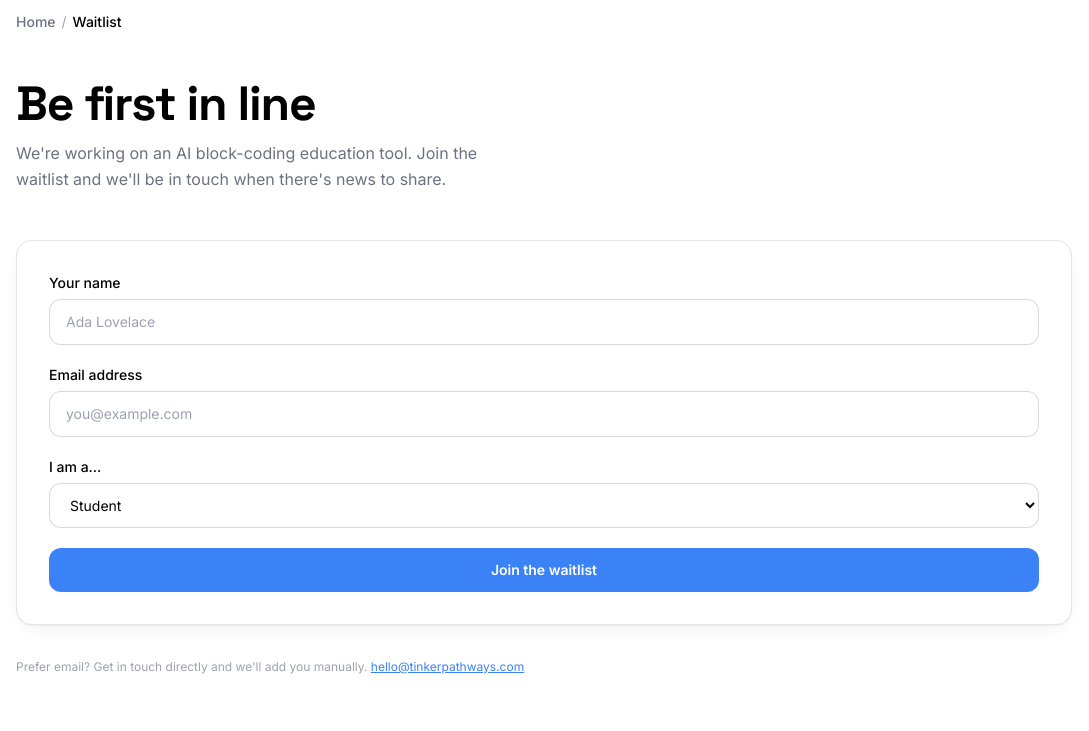
Waitlist page › shows a validation error for an invalid email
Type "Ada" into the field labelled "Your name" at (544, 322), box [49,299,1039,345]
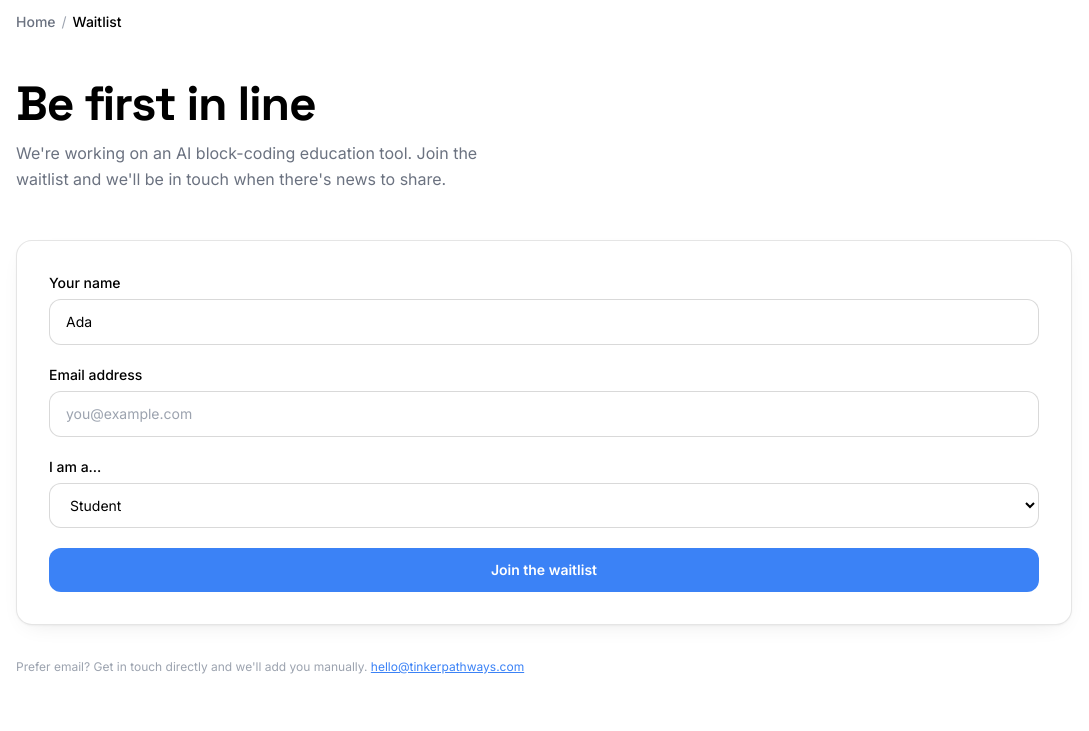
Type "not-an-email" into the field labelled "Email address" at (544, 414), box [49,391,1039,437]
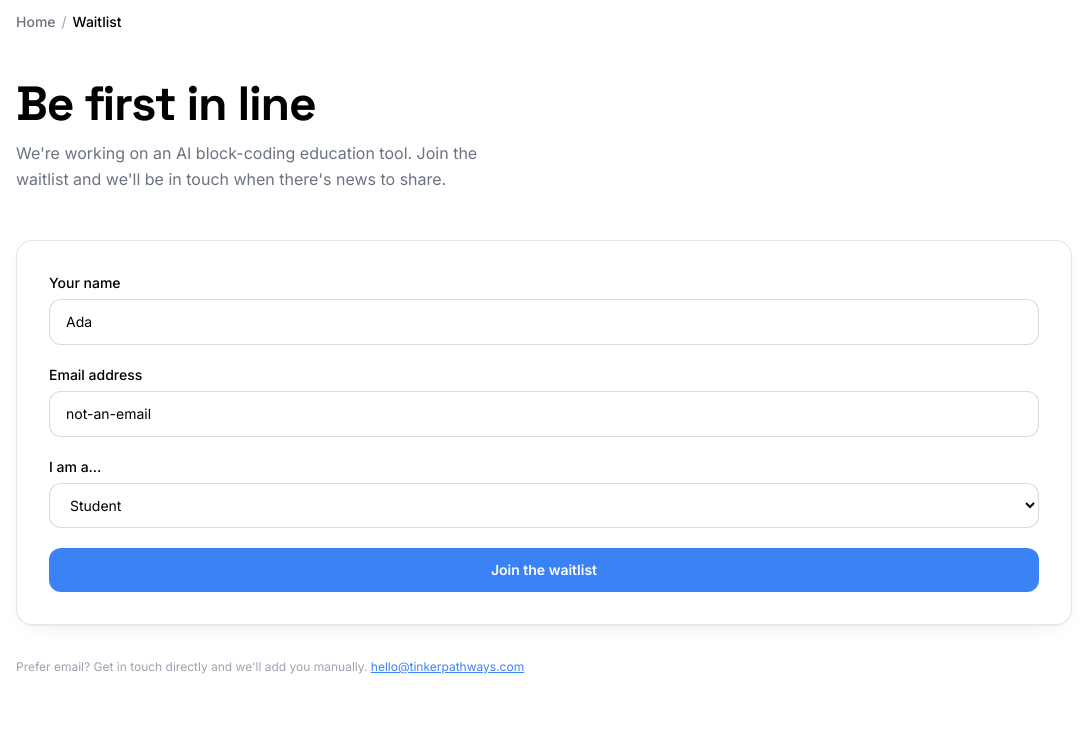
Click the button "Join the waitlist" at (544, 570), box [49,548,1039,592]
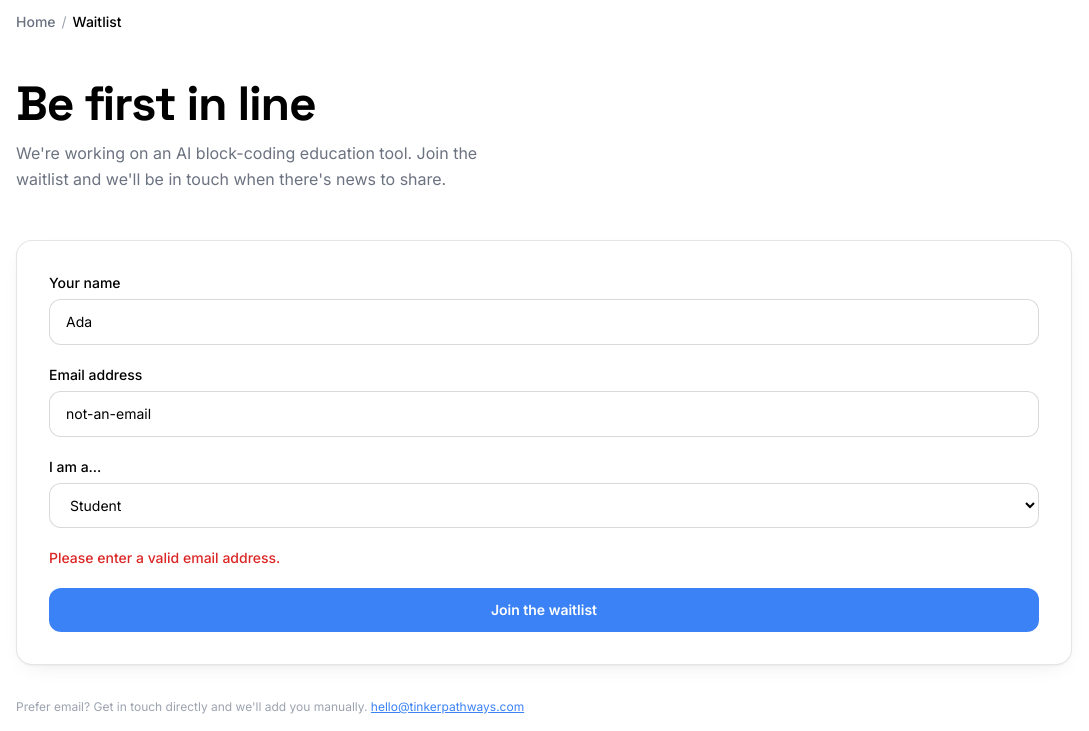
Expected: the message "Please enter a valid email address." is shown, [49,549,280,566]
